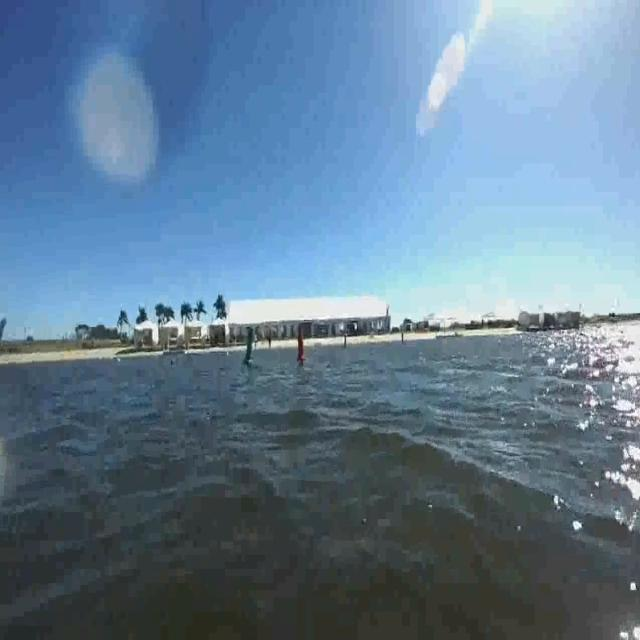green-column-buoy: (242, 326, 258, 367)
red-column-buoy: (295, 327, 306, 363)
